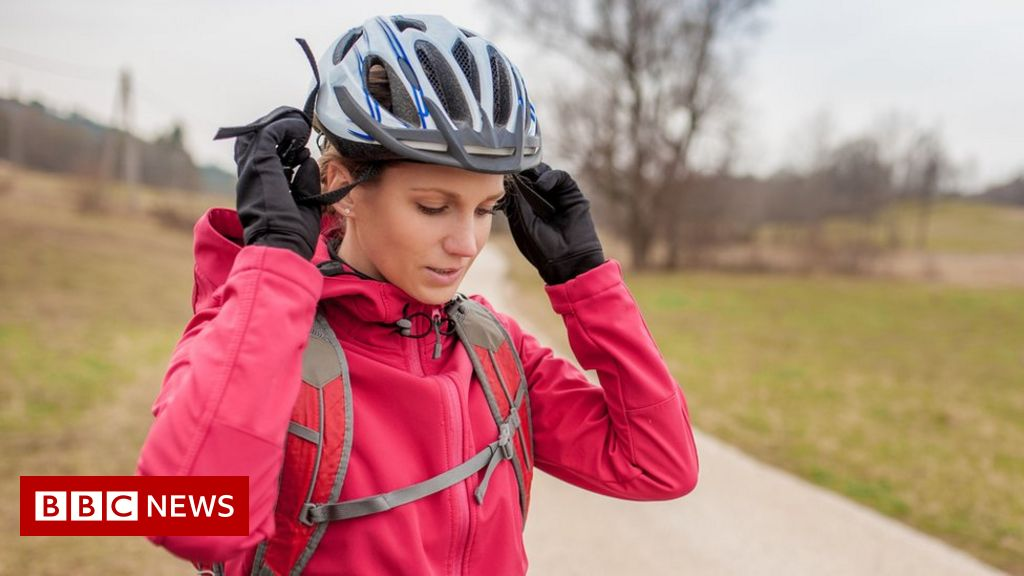helmet: (307, 13, 541, 304)
